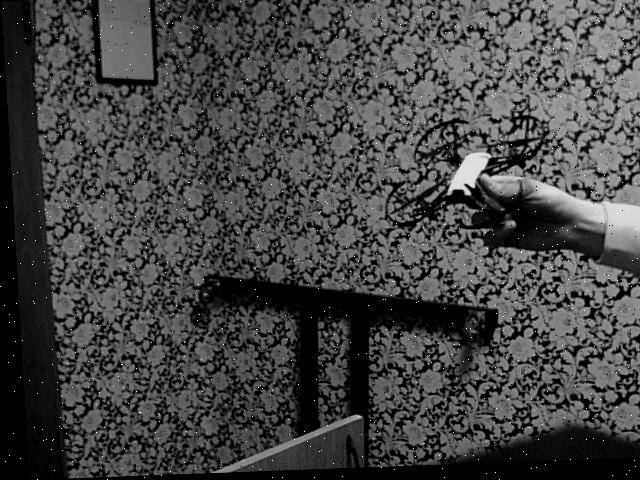drone: (369, 110, 551, 252)
